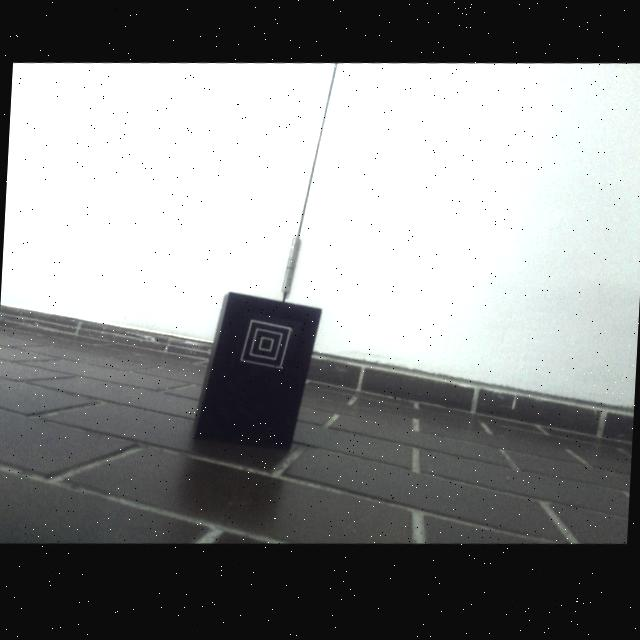BULLSEYE: (241, 323, 292, 373)
